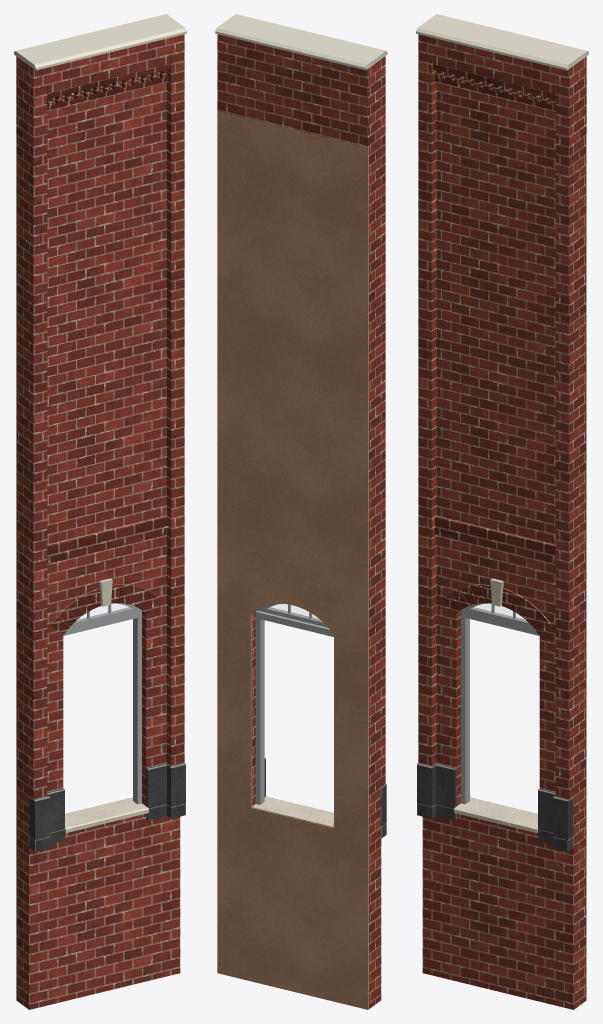
Rendered from a_wall_door.glb.
3 renders of one model, left to right at view 1: azimuth 30°, elevation 25°; view 2: azimuth 150°, elevation 25°; view 3: azimuth 330°, elevation 25°, orthographic.
Parts seen in each view (by area): view 1: a_wall_door_brick, a_wall_door_brick2, a_wall_door_plinth, a_wall_door_coping, a_wall_door_steel, a_wall_door_trim, a_wall_door_aplaster; view 2: a_wall_door_aplaster, a_wall_door_brick, a_wall_door_coping, a_wall_door_steel, a_wall_door_trim; view 3: a_wall_door_brick, a_wall_door_brick2, a_wall_door_plinth, a_wall_door_coping, a_wall_door_steel, a_wall_door_trim, a_wall_door_aplaster.
Part boxes in pixels (x1,y1,x2,y2): a_wall_door_brick: (16, 34, 184, 1009); a_wall_door_brick2: (47, 64, 169, 634); a_wall_door_plinth: (29, 763, 185, 851); a_wall_door_coping: (14, 14, 186, 70); a_wall_door_steel: (63, 603, 141, 804); a_wall_door_trim: (65, 578, 148, 832); a_wall_door_aplaster: (16, 135, 16, 1000); a_wall_door_aplaster: (217, 111, 368, 1009); a_wall_door_brick: (217, 34, 385, 1008); a_wall_door_coping: (215, 14, 387, 70); a_wall_door_steel: (255, 604, 334, 820); a_wall_door_trim: (251, 796, 333, 827); a_wall_door_brick: (418, 34, 586, 1009); a_wall_door_brick2: (433, 64, 555, 634); a_wall_door_plinth: (417, 763, 573, 851); a_wall_door_coping: (416, 14, 588, 70); a_wall_door_steel: (461, 603, 539, 804); a_wall_door_trim: (454, 578, 537, 832); a_wall_door_aplaster: (470, 135, 586, 1000).
Bounding box in the file's own units: 2 × 12 × 0.5.
8 materials, 5 textured.
